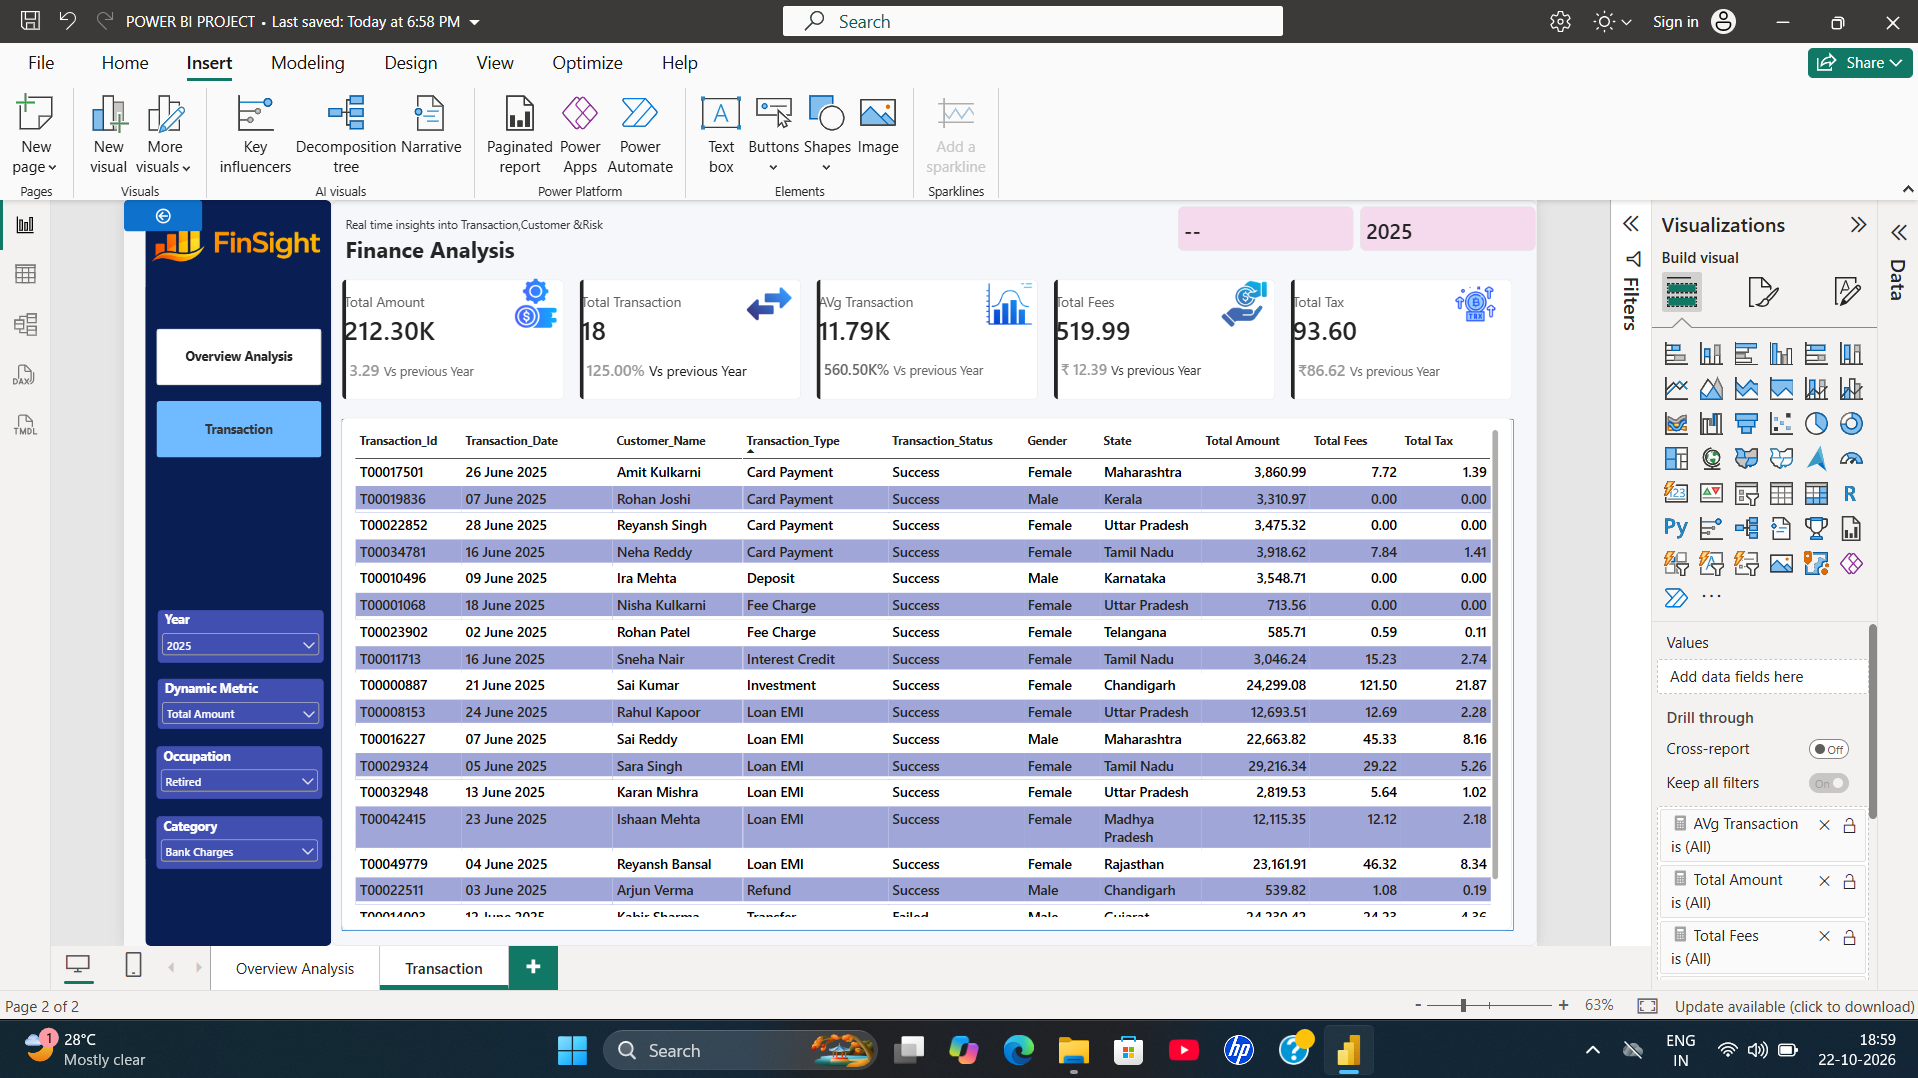

What the dashboard file says about the page in this screenshot:
{"tool":"powerbi","page":{"name":"Transaction","canvas":[1800,950],"ordinal":1},"visuals":[{"type":"shape","box":[27.8,0,237.1,950],"z":0},{"type":"shape","box":[264.9,0,1535.4,950],"z":1000},{"type":"image","box":[27.8,0,237.1,99.7],"z":2000},{"type":"cardVisual","fields":{"Data":["finance_transactions.Dahboard Tittle"]},"box":[276.3,8.2,340.1,86.7],"z":3000},{"type":"cardVisual","fields":{"Data":["finance_transactions.Total Amount","finance_transactions.Total Transaction","finance_transactions.AVg Transaction","finance_transactions.Total Fees","finance_transactions.Total Tax"]},"box":[276.9,99.6,1492.7,155.3],"z":4000},{"type":"image","box":[486.3,99.6,77.7,62.5],"z":6000},{"type":"image","box":[785.2,101.3,74.3,60.8],"z":7000},{"type":"image","box":[1389.7,101.3,74.3,60.8],"z":8000},{"type":"image","box":[1090.8,101.3,74.3,60.8],"z":9000},{"type":"image","box":[1673.4,101.3,96.2,60.8],"z":10000},{"type":"cardVisual","fields":{"Data":["finance_transactions.Selected Dynamic Measure","finance_transactions.Selected Year"]},"box":[1342.5,8.2,457.9,57.2],"z":14000},{"type":"shape","box":[276.3,278,1492.9,652.4],"z":23000},{"type":"tableEx","fields":{"Values":["finance_transactions.transaction_id","finance_transactions.transaction_date","customers.customer_name","finance_transactions.transaction_type","finance_transactions.transaction_status","customers.gender","customers.state","finance_transactions.Total Amount","finance_transactions.Total Fees","finance_transactions.Total Tax"]},"box":[277.5,277.5,1490.7,653.1],"z":23001},{"type":"actionButton","box":[0,0,100,40],"z":23002},{"type":"pageNavigator","box":[42.2,163.7,210.9,165.4],"z":23003},{"type":"slicer","fields":{"Values":["Calender Table.Year"]},"box":[42.2,521.8,211.1,67.5],"z":23004},{"type":"slicer","fields":{"Values":["Dynamic Metric.Dynamic Metric"]},"box":[42.2,609.6,211.1,64.2],"z":23005},{"type":"slicer","fields":{"Values":["customers.occupation"]},"box":[42.2,695.2,211.1,67.5],"z":23006},{"type":"slicer","fields":{"Values":["finance_transactions.merchant_category"]},"box":[42.2,784.6,211.1,67.5],"z":23007}]}

Visuals, with their boxes on the page's 1800x950 design canvas (x1, y1, x2, y2). These are canvas units, not pixel positions in the 1918x1078 screenshot, which may show the page scaled, cropped or inside an application window:
shape: 28/0/265/950
shape: 265/0/1800/950
image: 28/0/265/100
cardVisual - finance_transactions.Dahboard Tittle: 276/8/616/95
cardVisual - finance_transactions.Total Amount x finance_transactions.Total Transaction: 277/100/1770/255
image: 486/100/564/162
image: 785/101/860/162
image: 1390/101/1464/162
image: 1091/101/1165/162
image: 1673/101/1770/162
cardVisual - finance_transactions.Selected Dynamic Measure x finance_transactions.Selected Year: 1342/8/1800/65
shape: 276/278/1769/930
tableEx - finance_transactions.transaction_id x finance_transactions.transaction_date: 278/278/1768/931
actionButton: 0/0/100/40
pageNavigator: 42/164/253/329
slicer - Calender Table.Year: 42/522/253/589
slicer - Dynamic Metric.Dynamic Metric: 42/610/253/674
slicer - customers.occupation: 42/695/253/763
slicer - finance_transactions.merchant_category: 42/785/253/852
